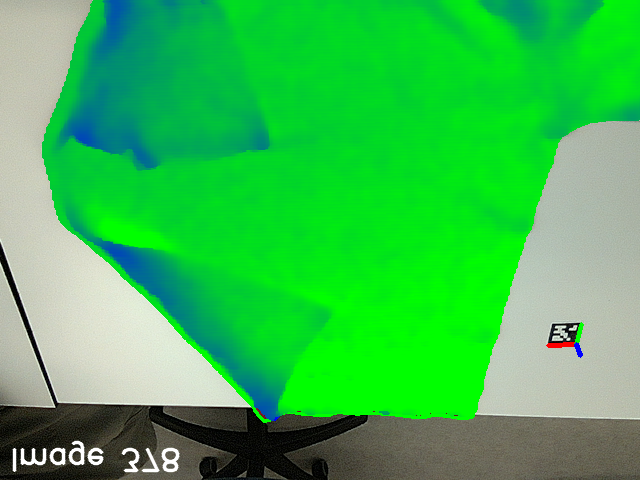V: (256, 281, 351, 359), (212, 80, 285, 167)
